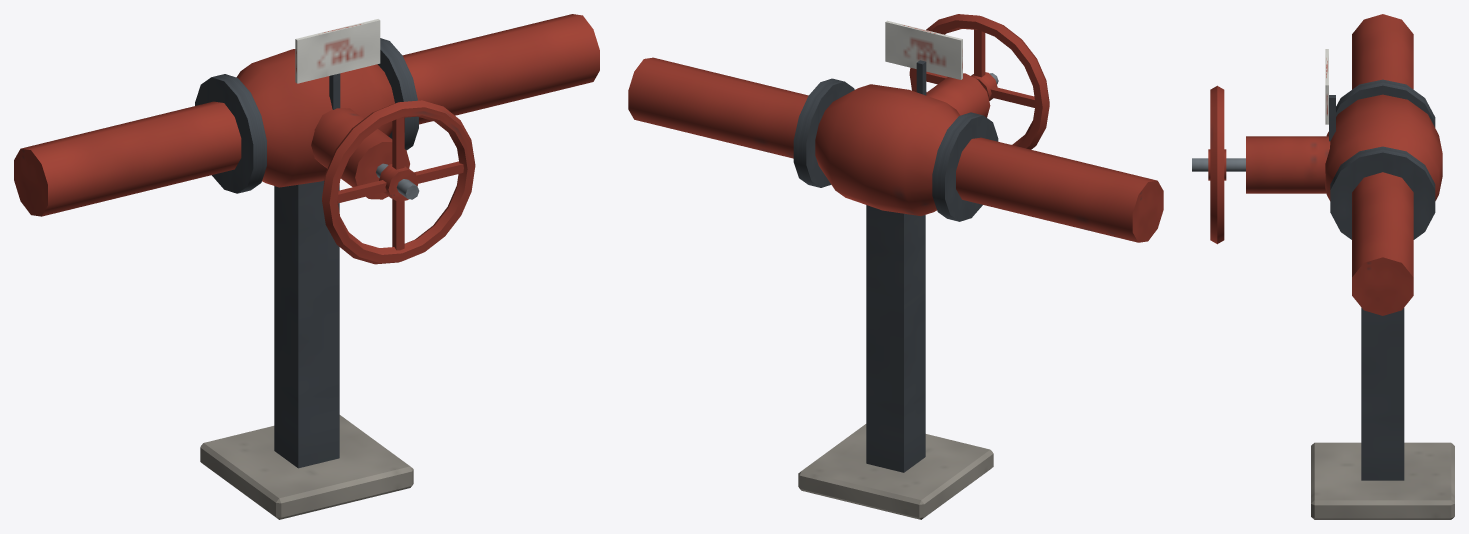
Rendered from valve_fuel_lc.obj.
3 views of the same model, side by side, from view 1: azimuth 30°, elevation 25°; view 2: azimuth 150°, elevation 25°; view 3: azimuth 270°, elevation 25° (orthographic). The views are drawn at different scales.
Visible parts, largest first — view 1: valve_fuel_lc, valve_fuel_lc_handwheel; view 2: valve_fuel_lc, valve_fuel_lc_handwheel; view 3: valve_fuel_lc, valve_fuel_lc_handwheel.
Part boxes in pixels (box(x1,y1,x2,y2)): valve_fuel_lc: box(14, 14, 599, 519); valve_fuel_lc_handwheel: box(322, 100, 475, 264); valve_fuel_lc: box(628, 20, 1163, 519); valve_fuel_lc_handwheel: box(909, 14, 1049, 149); valve_fuel_lc: box(1192, 14, 1454, 519); valve_fuel_lc_handwheel: box(1208, 85, 1226, 244).
Size of the model in its own units: 1.6 by 1.3 by 0.73.
Materials: 1 (1 with a texture image).
